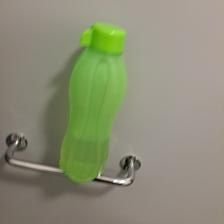bottle: (57, 17, 130, 185)
